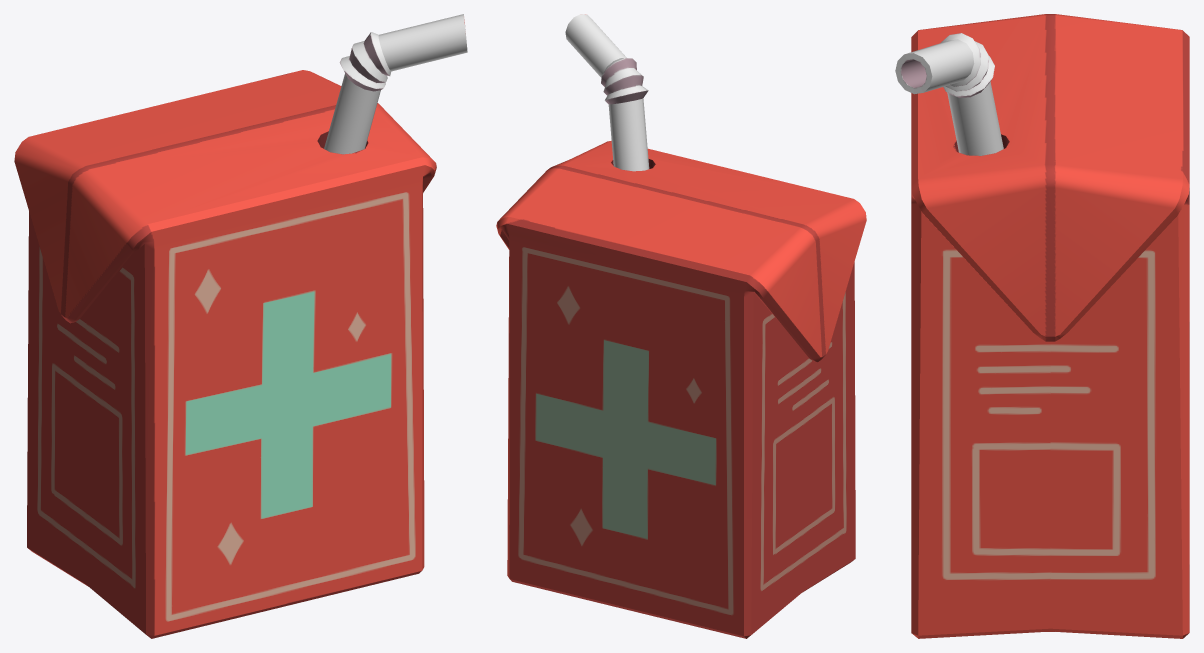
File: stylized_juicebox.glb
3 renders of one model, left to right at view 1: azimuth 30°, elevation 25°; view 2: azimuth 150°, elevation 25°; view 3: azimuth 270°, elevation 25°, orthographic. The views are drawn at different scales.
Visible parts, largest first — view 1: JuiceBox, Straw; view 2: JuiceBox, Straw; view 3: JuiceBox, Straw.
Boxes of the visible parts, left/top/right/bottom form: JuiceBox: left=14, top=70, right=436, bottom=638; Straw: left=324, top=14, right=467, bottom=154; JuiceBox: left=496, top=140, right=866, bottom=638; Straw: left=565, top=14, right=649, bottom=171; JuiceBox: left=911, top=14, right=1189, bottom=638; Straw: left=895, top=33, right=1003, bottom=155.
Size of the model in its own units: 0.5258 by 0.7911 by 0.3466.
1 material, 1 textured.
